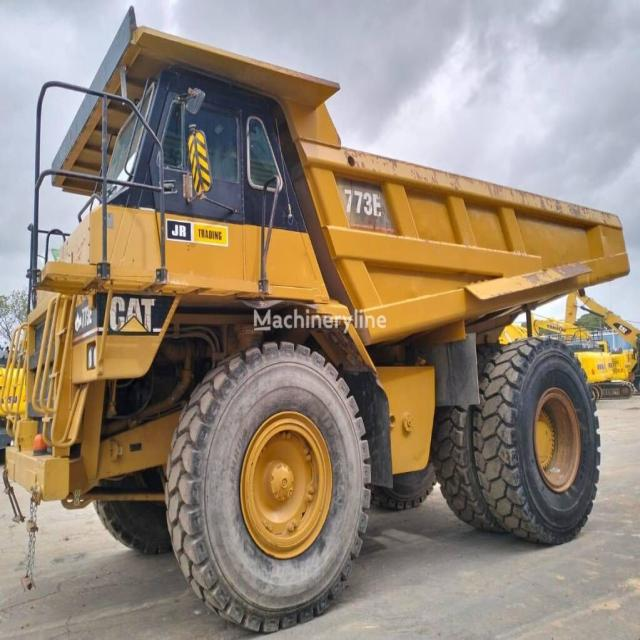dump_truck: (32, 4, 600, 625)
